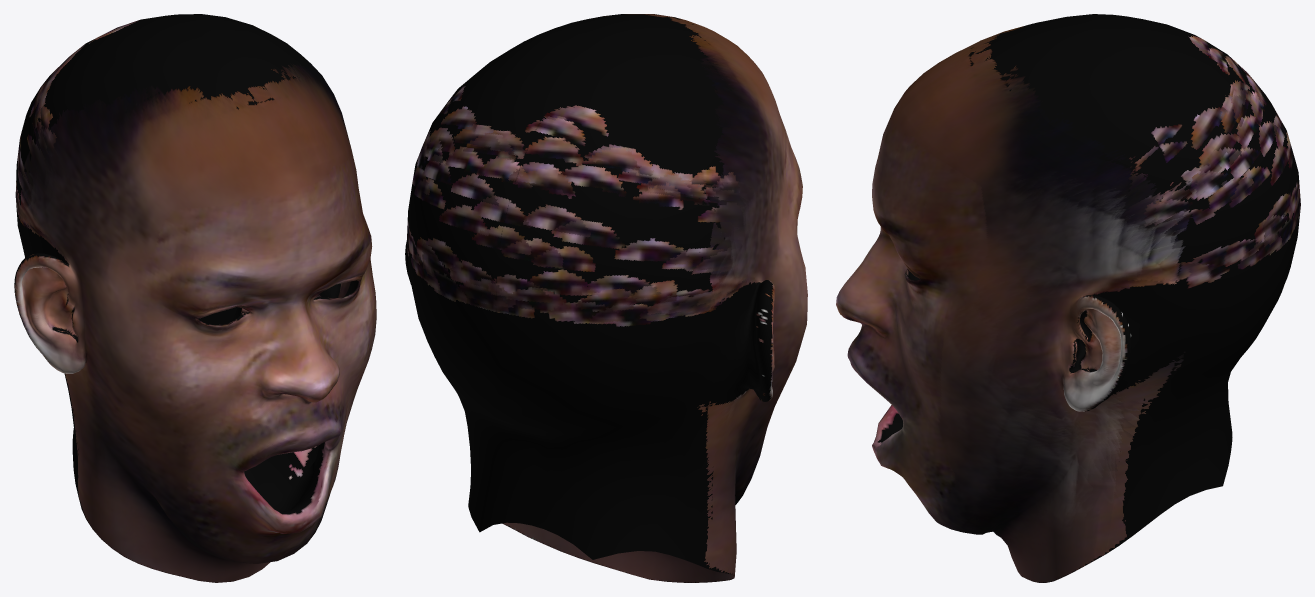
Rendered from Open.obj.
The picture shows the model from 3 angles, left to right: view 1: azimuth 30°, elevation 25°; view 2: azimuth 150°, elevation 25°; view 3: azimuth 270°, elevation 25°; orthographic projection. The views are drawn at different scales.
Size of the model in its own units: 191 by 284 by 224.
